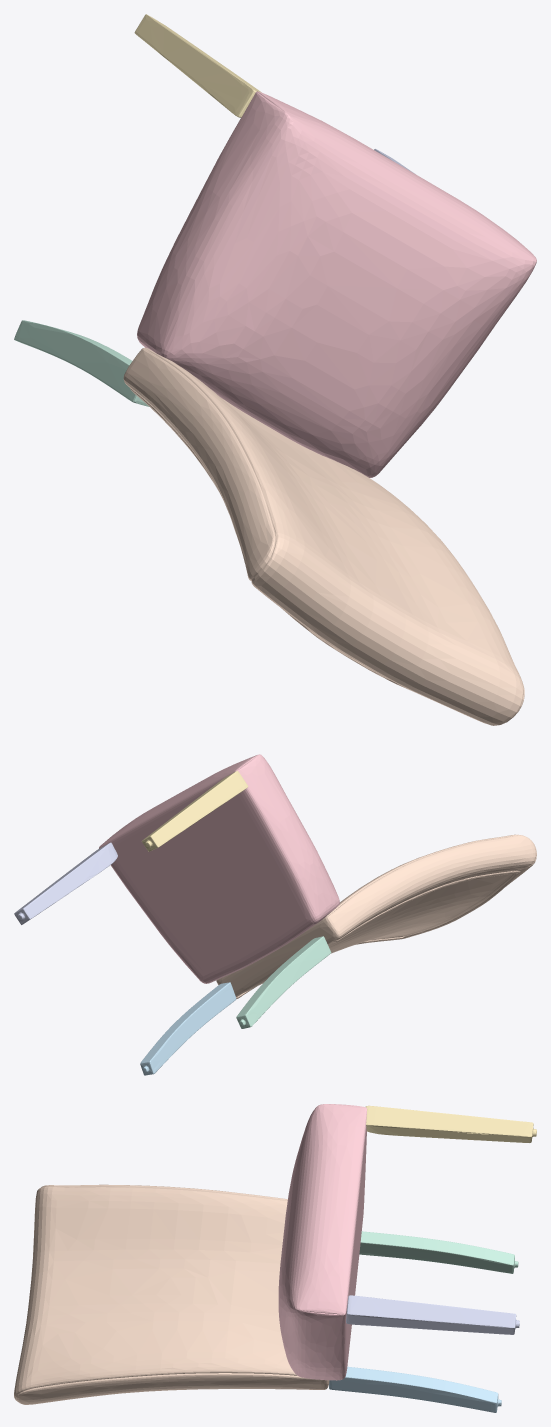
File: view_assembly_9_colored.glb
The picture shows the model from 3 angles, top to bottom: view 1: azimuth 30°, elevation 25°; view 2: azimuth 150°, elevation 25°; view 3: azimuth 270°, elevation 25°; orthographic projection. The views are drawn at different scales.
Visible parts, largest first — view 1: world; view 2: world; view 3: world.
Part boxes in pixels (x1,y1,x2,y2): world: (14,14,536,725); world: (14,754,536,1075); world: (14,1104,536,1412).
Bounding box in the file's own units: 0.7391 × 0.6521 × 1.02.
